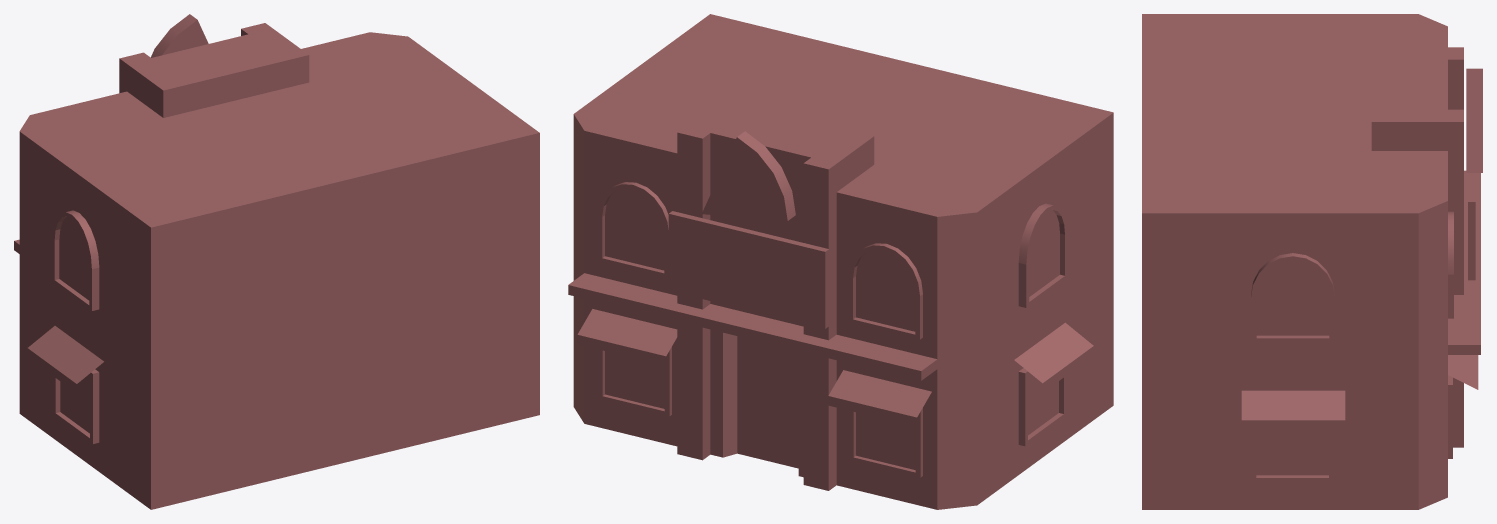
Rendered from PizzaRestaurant.fbx.
The picture shows the model from 3 angles, left to right: view 1: azimuth 30°, elevation 25°; view 2: azimuth 150°, elevation 25°; view 3: azimuth 270°, elevation 25°; orthographic projection. The views are drawn at different scales.
Visible parts, largest first — view 1: PizzaRestaurant; view 2: PizzaRestaurant; view 3: PizzaRestaurant.
Part boxes in pixels (<box>): PizzaRestaurant: <box>14,14,539,509</box>; PizzaRestaurant: <box>568,14,1113,509</box>; PizzaRestaurant: <box>1142,14,1482,509</box>.
Bounding box in the file's own units: 11.19 × 7.93 × 7.1.
